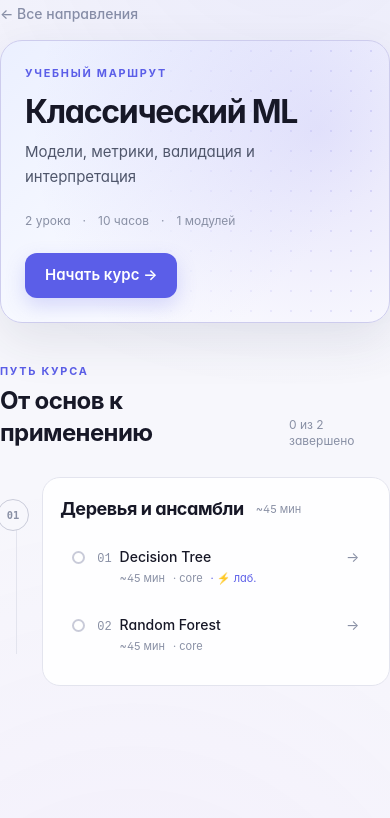
Test case: FocusView: выбор урока › navigates to lesson when clicked
Click the button "01 Decision Tree ~45 мин · core · ⚡ лаб. →" at (165, 557), box [60, 535, 371, 599]
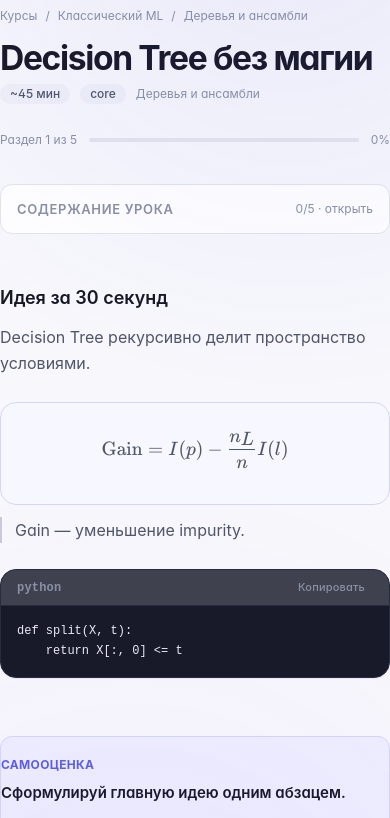
Check: the heading "Decision Tree без магии" is shown, box [0, 40, 389, 76]
